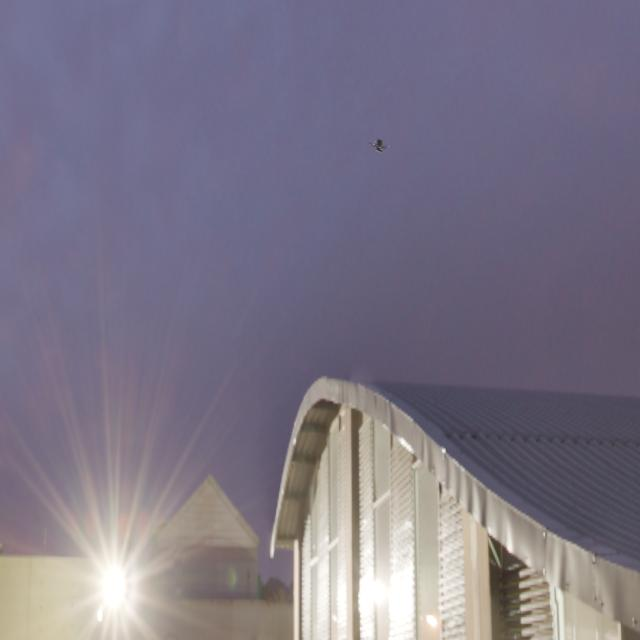drone: (369, 133, 390, 152)
